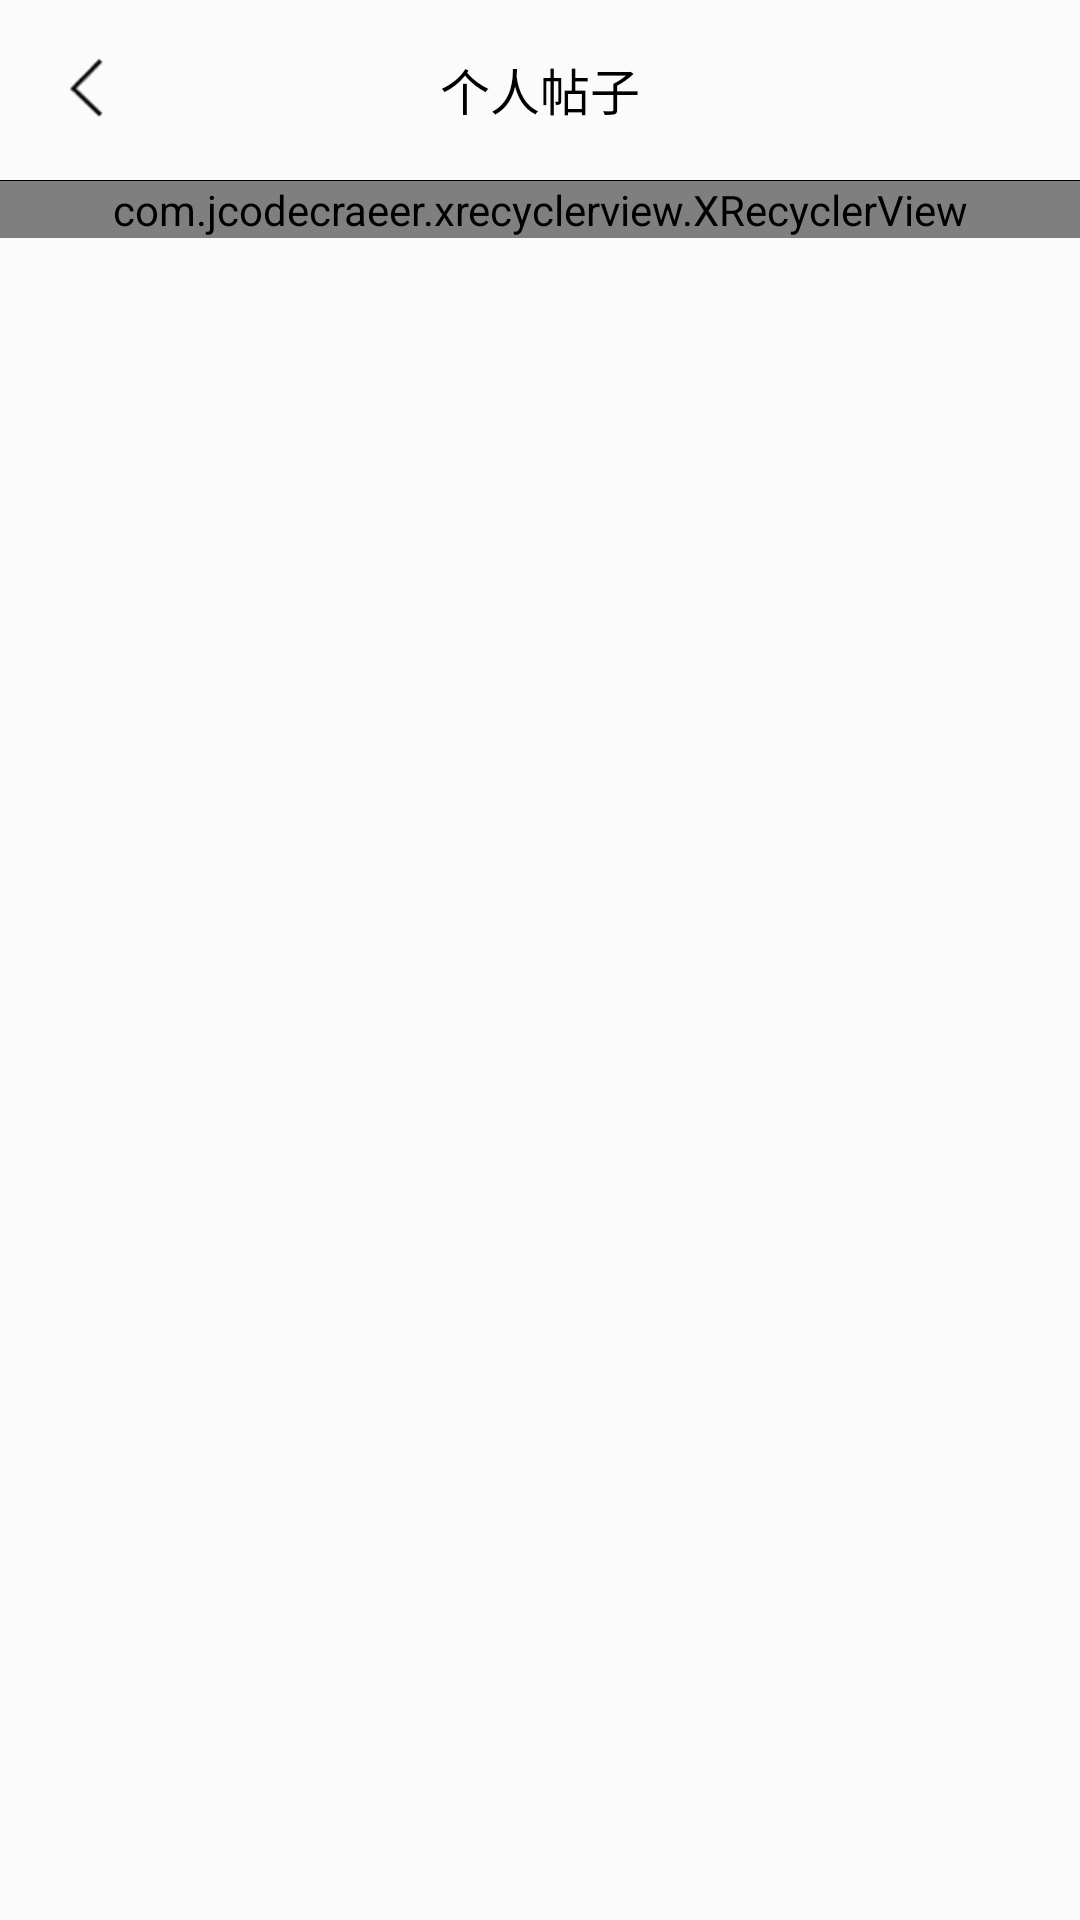

Icons on this 1080×1920 Android screen, each with the point to tap as (x,y):
back: (86,88)
